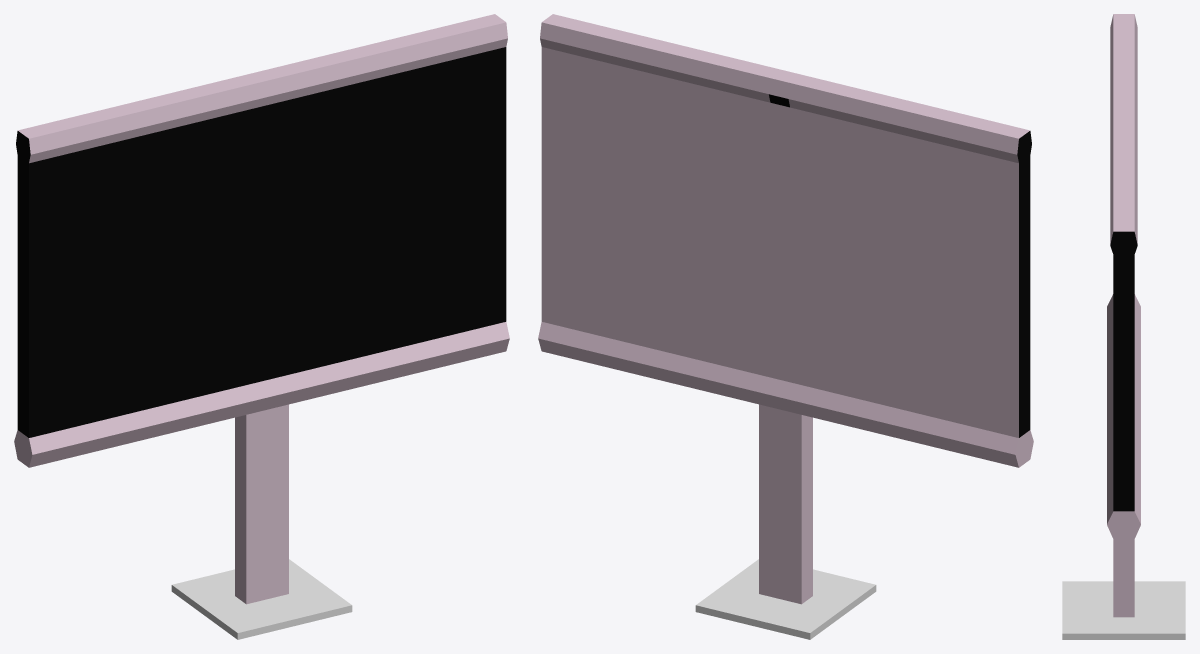
Rendered from screen_1.fbx.
3 views of the same model, side by side, from view 1: azimuth 30°, elevation 25°; view 2: azimuth 150°, elevation 25°; view 3: azimuth 270°, elevation 25° (orthographic). The views are drawn at different scales.
Parts seen in each view (by area): view 1: Cube, Cube.001; view 2: Cube, Cube.001; view 3: Cube, Cube.001.
Boxes of the visible parts, bbox=[...] form: Cube: bbox=[14, 14, 509, 604]; Cube.001: bbox=[171, 559, 352, 639]; Cube: bbox=[538, 14, 1033, 604]; Cube.001: bbox=[695, 559, 876, 639]; Cube: bbox=[1107, 14, 1140, 617]; Cube.001: bbox=[1062, 581, 1185, 639].
Size of the model in its own units: 4.17 by 4.39 by 1.
